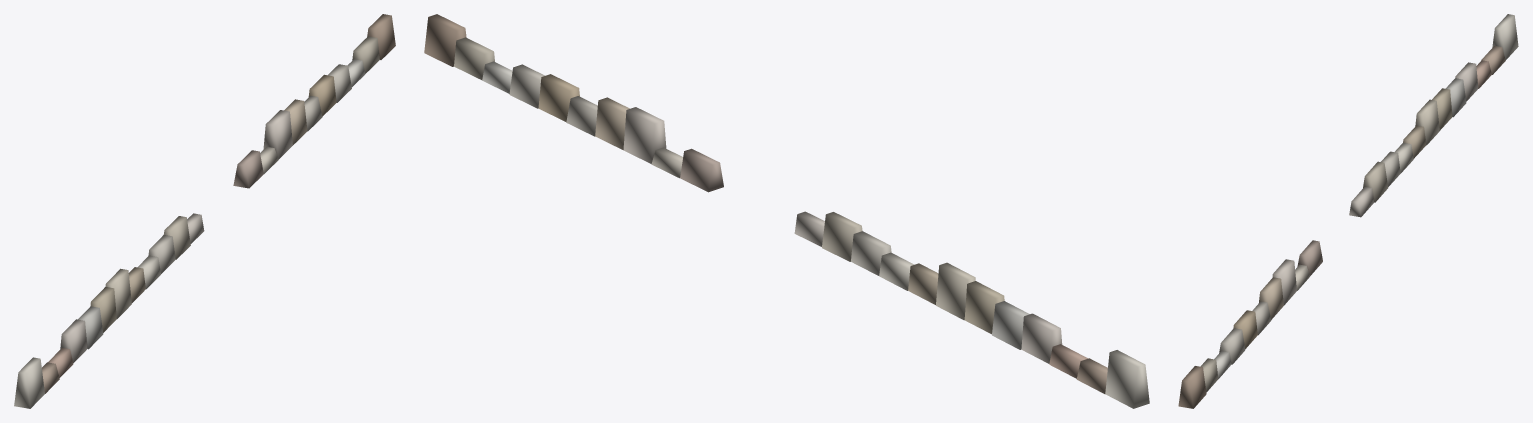
Rendered from farm_12_15_collision.glb.
The picture shows the model from 3 angles, left to right: view 1: azimuth 90°, elevation 25°; view 2: azimuth 150°, elevation 25°; view 3: azimuth 270°, elevation 25°; orthographic projection. The views are drawn at different scales.
Visible parts, largest first — view 1: geometry_0; view 2: geometry_0; view 3: geometry_0.
Boxes of the visible parts, x1,y1,x2,y2 form: geometry_0: [14, 14, 395, 408]; geometry_0: [424, 14, 1149, 408]; geometry_0: [1178, 14, 1518, 408].
Bounding box in the file's own units: 36.88 × 2.5 × 15.35.
